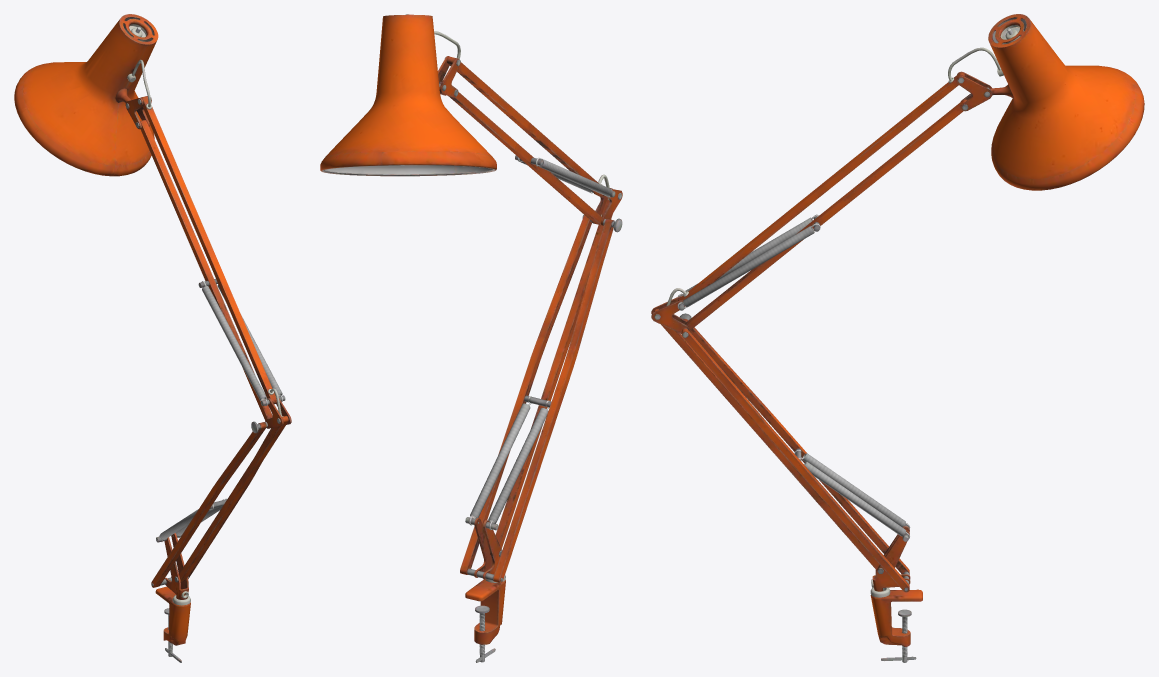
The model's file is desk_lamp_arm_01.glb.
3 renders of one model, left to right at view 1: azimuth 30°, elevation 25°; view 2: azimuth 150°, elevation 25°; view 3: azimuth 270°, elevation 25°, orthographic. The views are drawn at different scales.
Parts seen in each view (by area): view 1: desk_lamp_arm_01; view 2: desk_lamp_arm_01; view 3: desk_lamp_arm_01.
Boxes of the visible parts, bbox=[...] form: desk_lamp_arm_01: bbox=[14, 14, 291, 662]; desk_lamp_arm_01: bbox=[320, 14, 622, 662]; desk_lamp_arm_01: bbox=[651, 14, 1144, 662].
Bounding box in the file's own units: 0.2017 × 0.8926 × 0.6139.
2 materials, 2 textured.
